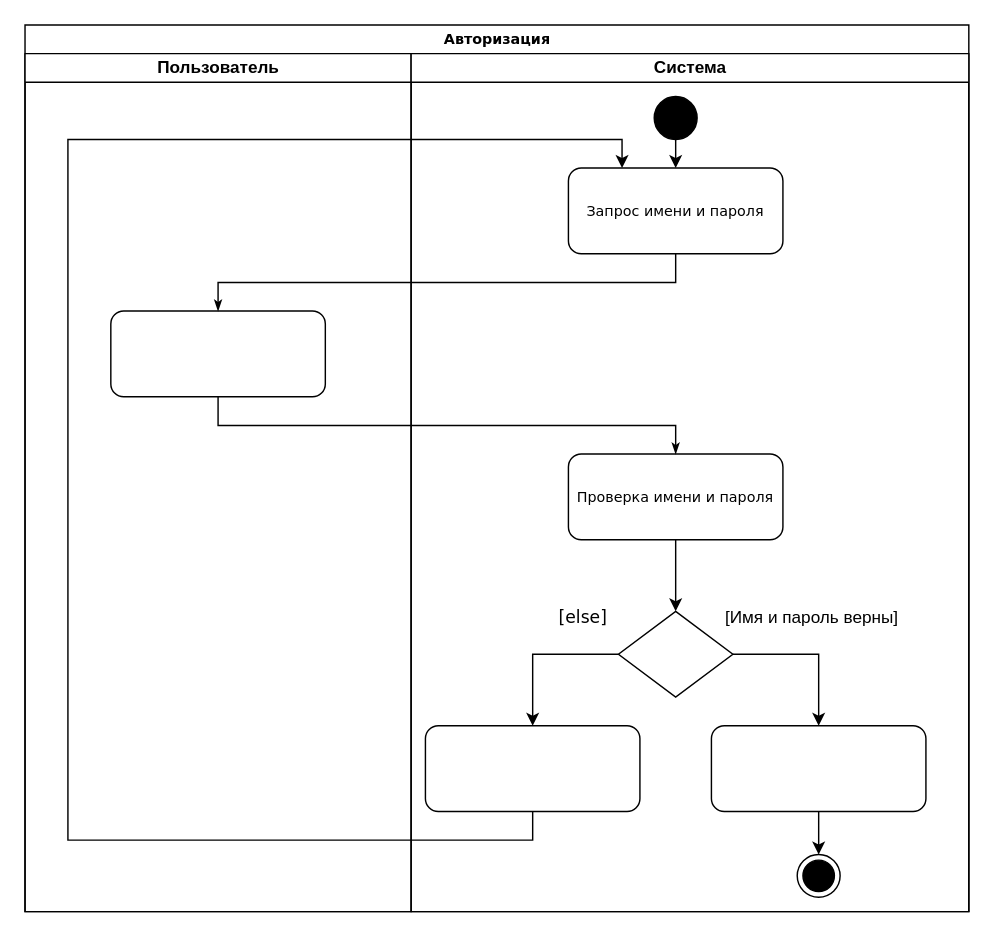
The diagram is 994 pixels wide and 937 high, and some of its shapes have lost their labels. Here are the shapes that lost their labels. From the top down, the centre of each, then its label:
At (x=217, y=353): "Ввод имени и пароля".
At (x=532, y=768): "Вывод предупреждения".
At (x=818, y=768): "Авторизация на сайте, выход в главное меню".
